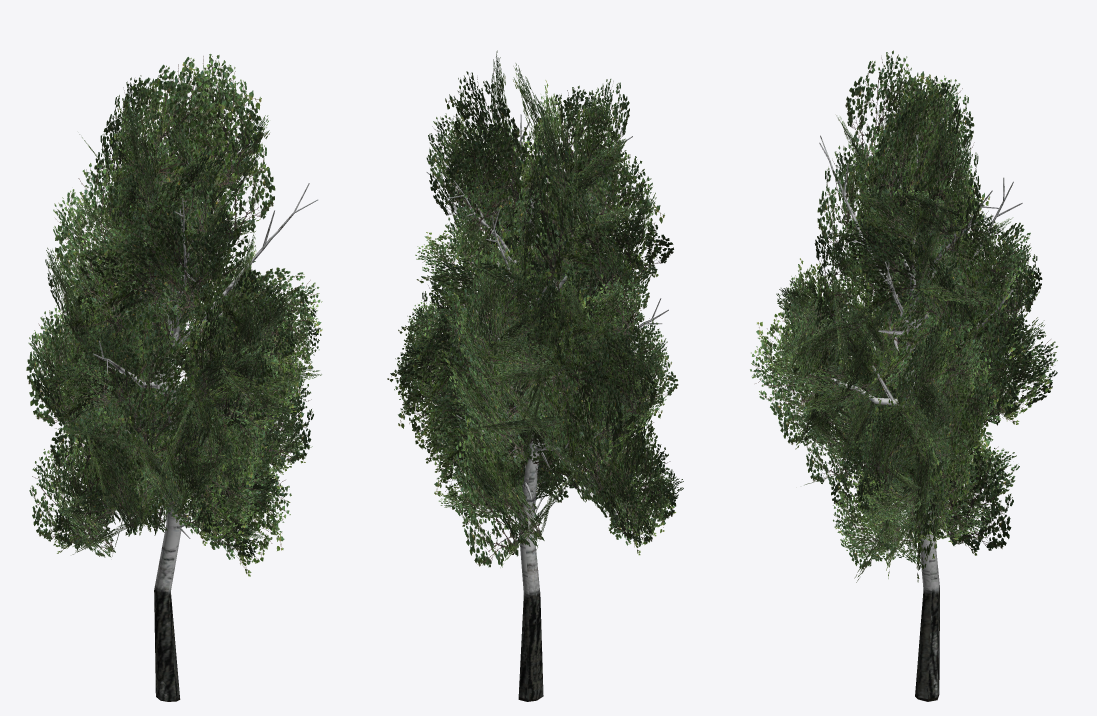
File: BirchTree.fbx
3 renders of one model, left to right at view 1: azimuth 30°, elevation 25°; view 2: azimuth 150°, elevation 25°; view 3: azimuth 270°, elevation 25°, orthographic.
Parts seen in each view (by area): view 1: BirchTree; view 2: BirchTree; view 3: BirchTree.
Boxes of the visible parts, left/top/right/bottom form: BirchTree: left=26, top=54, right=322, bottom=701; BirchTree: left=387, top=50, right=683, bottom=701; BirchTree: left=750, top=50, right=1058, bottom=701.
Size of the model in its own units: 1601 by 3399 by 1653.
